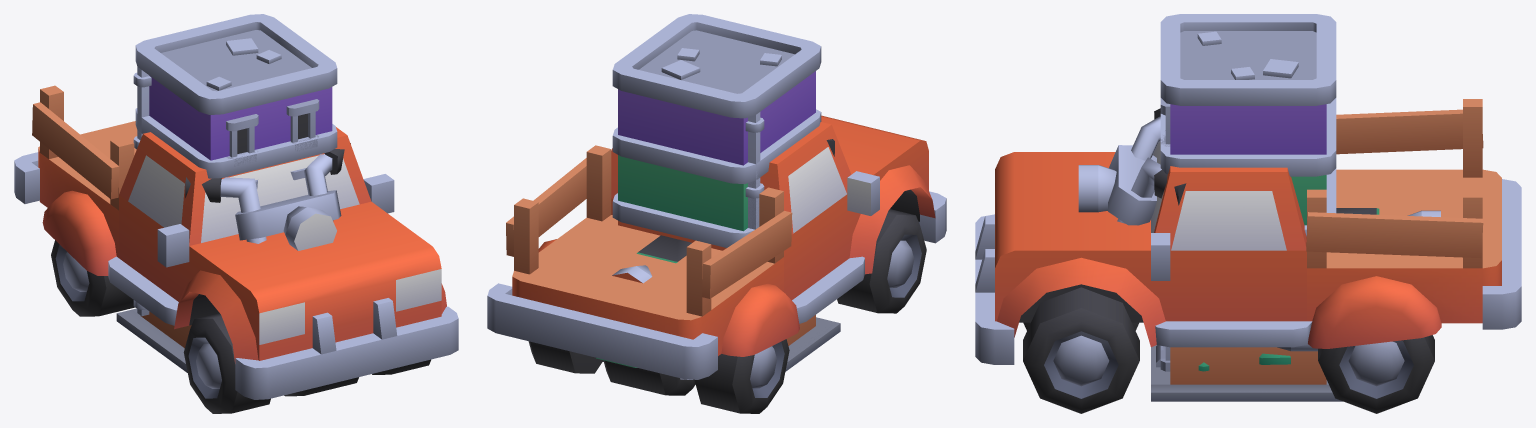
File: street.glb
3 renders of one model, left to right at view 1: azimuth 30°, elevation 25°; view 2: azimuth 150°, elevation 25°; view 3: azimuth 270°, elevation 25°, orthographic. The views are drawn at different scales.
Parts seen in each view (by area): view 1: body, building-small-c, fork, wheel-front-right, building-small-b, wheel-back-right, building-small-a, road-straight, wheel-front; view 2: body (×2), building-small-c, building-small-b, wheel-front-right, building-small-a, wheel-back-right, wheel-back, wheel-back-left; view 3: body (×2), building-small-c, wheel-front-left, building-small-a, wheel-back-left, fork, building-small-b, road-straight.
Boxes of the visible parts, x1,y1,x2,y2 form: body: [14, 85, 458, 399]; building-small-c: [133, 14, 337, 315]; fork: [185, 143, 350, 250]; wheel-front-right: [183, 313, 270, 413]; building-small-b: [133, 108, 337, 315]; wheel-back-right: [51, 240, 134, 316]; building-small-a: [116, 300, 191, 372]; road-straight: [117, 309, 185, 363]; wheel-front: [284, 377, 358, 396]; body (×2): [487, 115, 946, 379]; building-small-c: [612, 14, 821, 229]; building-small-b: [612, 109, 821, 231]; wheel-front-right: [837, 209, 926, 313]; building-small-a: [603, 193, 840, 371]; wheel-back-right: [694, 339, 789, 413]; wheel-back: [603, 360, 695, 395]; wheel-back-left: [528, 341, 603, 373]; body (×2): [975, 99, 1521, 364]; building-small-c: [1160, 14, 1336, 371]; wheel-front-left: [1023, 287, 1139, 413]; building-small-a: [1151, 168, 1342, 401]; wheel-back-left: [1318, 335, 1434, 413]; fork: [1078, 108, 1186, 225]; building-small-b: [1160, 98, 1336, 225]; road-straight: [1151, 384, 1331, 392].
Size of the model in its own units: 1.5 by 1.75 by 2.8.
3 materials, 3 textured.
